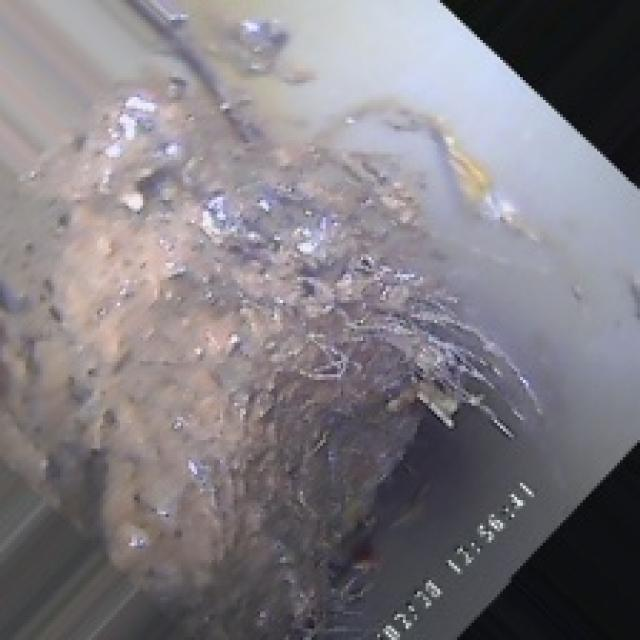sluge accumulation: (80, 89, 440, 574)
